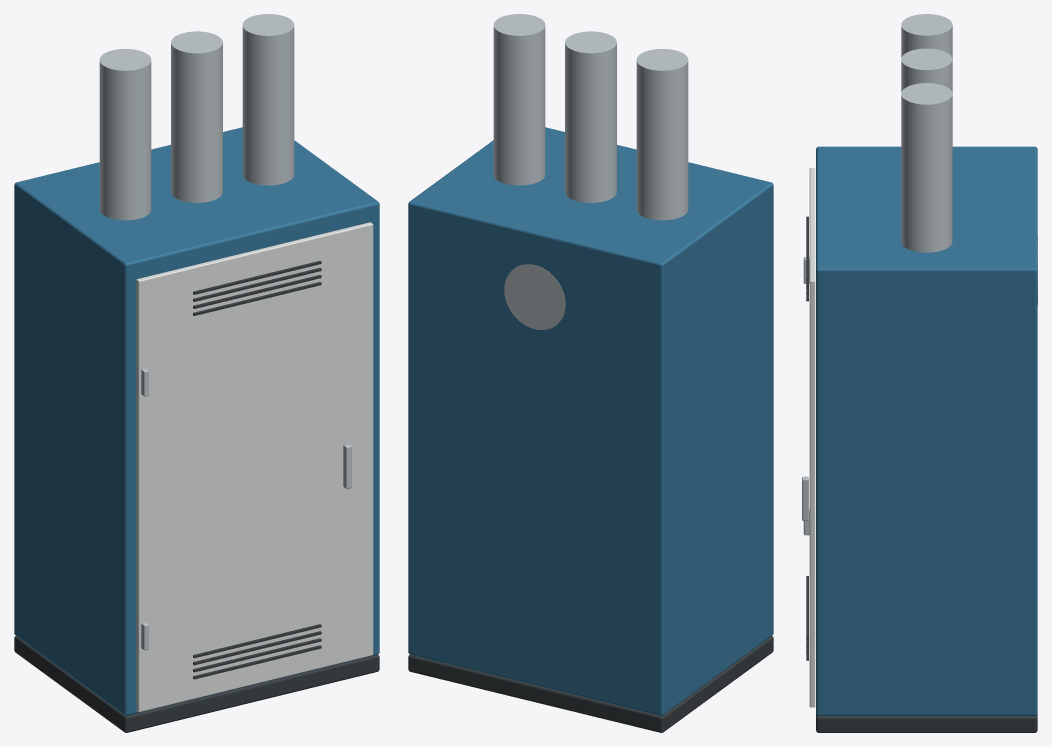
The model's file is recycling-centre-and-material-sorting-dust-filter-cabi-0cb98086__31147.glb.
The picture shows the model from 3 angles, left to right: view 1: azimuth 30°, elevation 25°; view 2: azimuth 150°, elevation 25°; view 3: azimuth 270°, elevation 25°; orthographic projection.
Parts seen in each view (by area): view 1: dust-filter-cabinet; view 2: dust-filter-cabinet; view 3: dust-filter-cabinet.
Boxes of the visible parts, x1,y1,x2,y2 form: dust-filter-cabinet: (14,14,379,732); dust-filter-cabinet: (408,14,773,732); dust-filter-cabinet: (802,14,1037,732).
Size of the model in its own units: 1.25 by 2.9 by 1.01.
